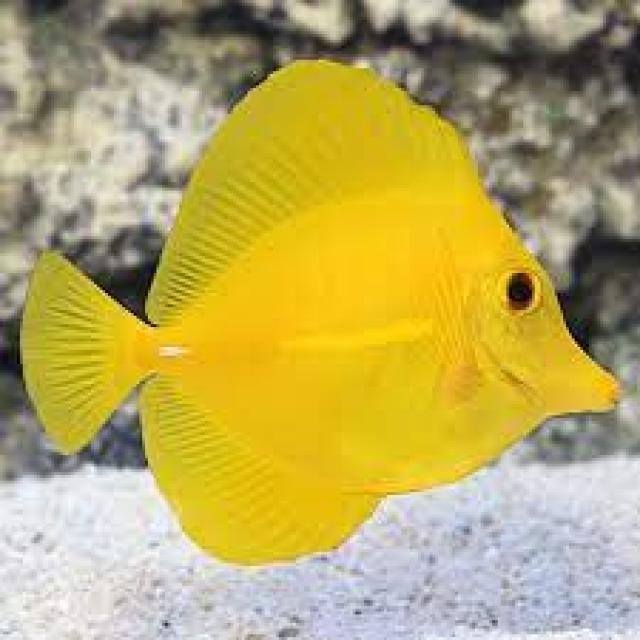TangFish: (18, 54, 620, 562)
